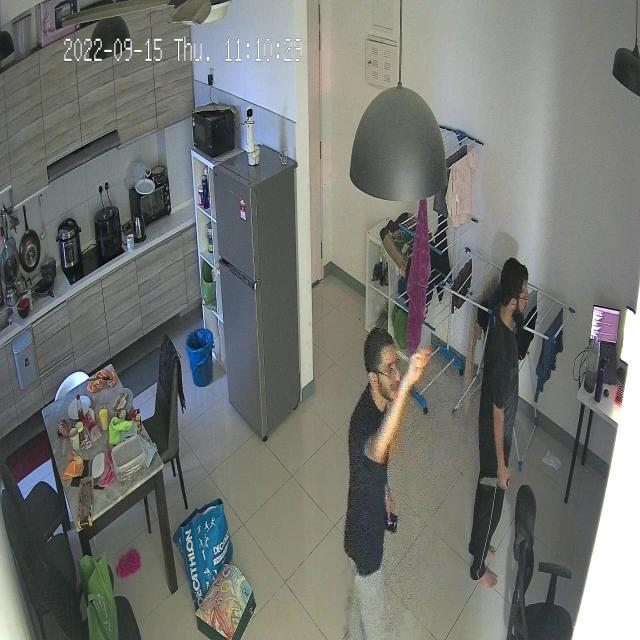Knife: (480, 463, 522, 496)
